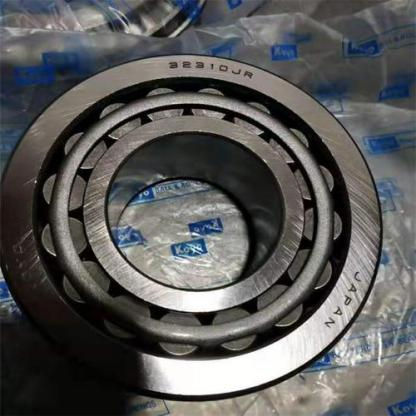FOD: (0, 49, 391, 404)
